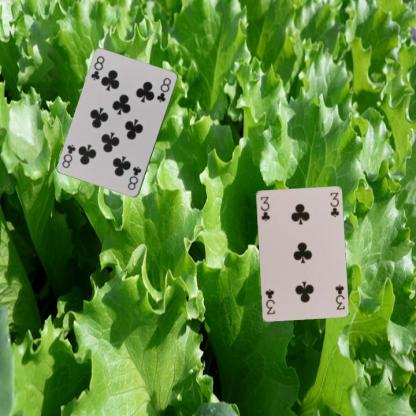3c: (332, 282, 346, 311), (258, 194, 271, 223)
8c: (88, 53, 106, 82), (125, 164, 143, 191)
